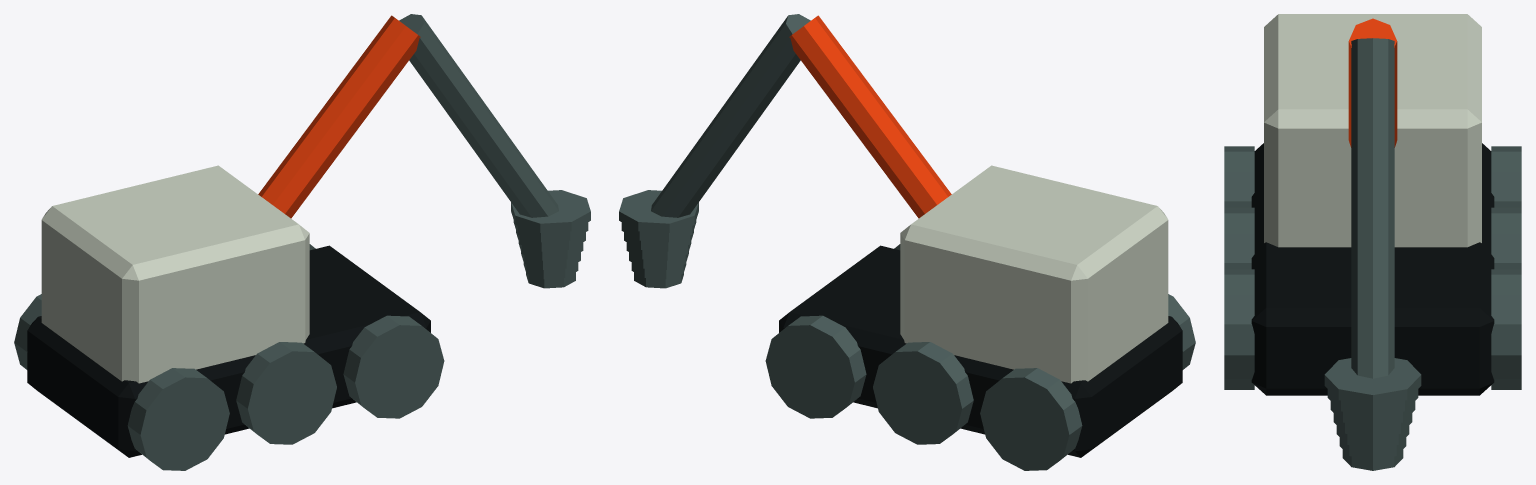
The model's file is SM_MP_Ice_Drill.fbx.
The picture shows the model from 3 angles, left to right: view 1: azimuth 30°, elevation 25°; view 2: azimuth 150°, elevation 25°; view 3: azimuth 270°, elevation 25°; orthographic projection. The views are drawn at different scales.
Parts seen in each view (by area): view 1: SM_MP_Ice_Drill; view 2: SM_MP_Ice_Drill; view 3: SM_MP_Ice_Drill.
Boxes of the visible parts, x1,y1,x2,y2 form: SM_MP_Ice_Drill: [14, 14, 590, 470]; SM_MP_Ice_Drill: [619, 14, 1195, 470]; SM_MP_Ice_Drill: [1224, 14, 1521, 470].
Size of the model in its own units: 575 by 245 by 364.
Materials: 1 (1 with a texture image).
